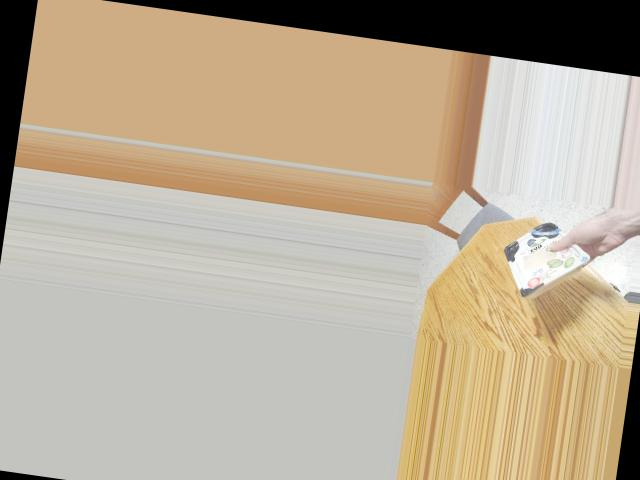cheese: (498, 224, 582, 299)
